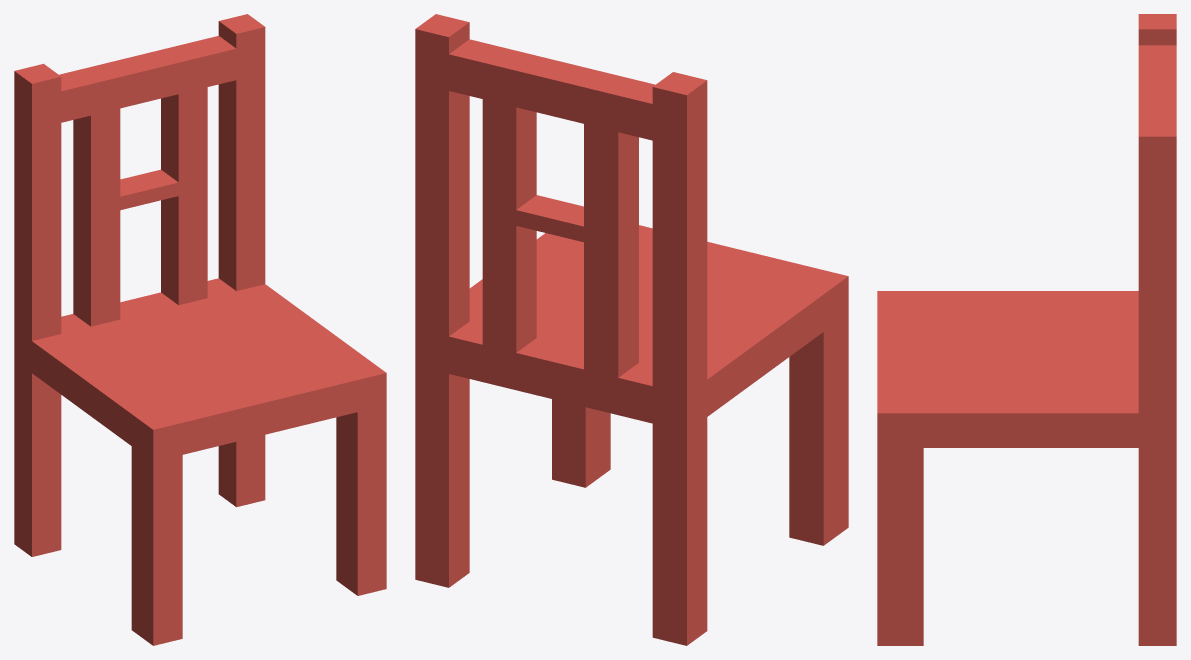
Rendered from Chair.fbx.
3 views of the same model, side by side, from view 1: azimuth 30°, elevation 25°; view 2: azimuth 150°, elevation 25°; view 3: azimuth 270°, elevation 25° (orthographic). The views are drawn at different scales.
Parts seen in each view (by area): view 1: Seat; view 2: Seat; view 3: Seat.
Part boxes in pixels (bbox=[...]): Seat: bbox=[14, 14, 386, 645]; Seat: bbox=[415, 14, 848, 645]; Seat: bbox=[877, 14, 1176, 645].
Bounding box in the file's own units: 67.75 × 131 × 69.89.
